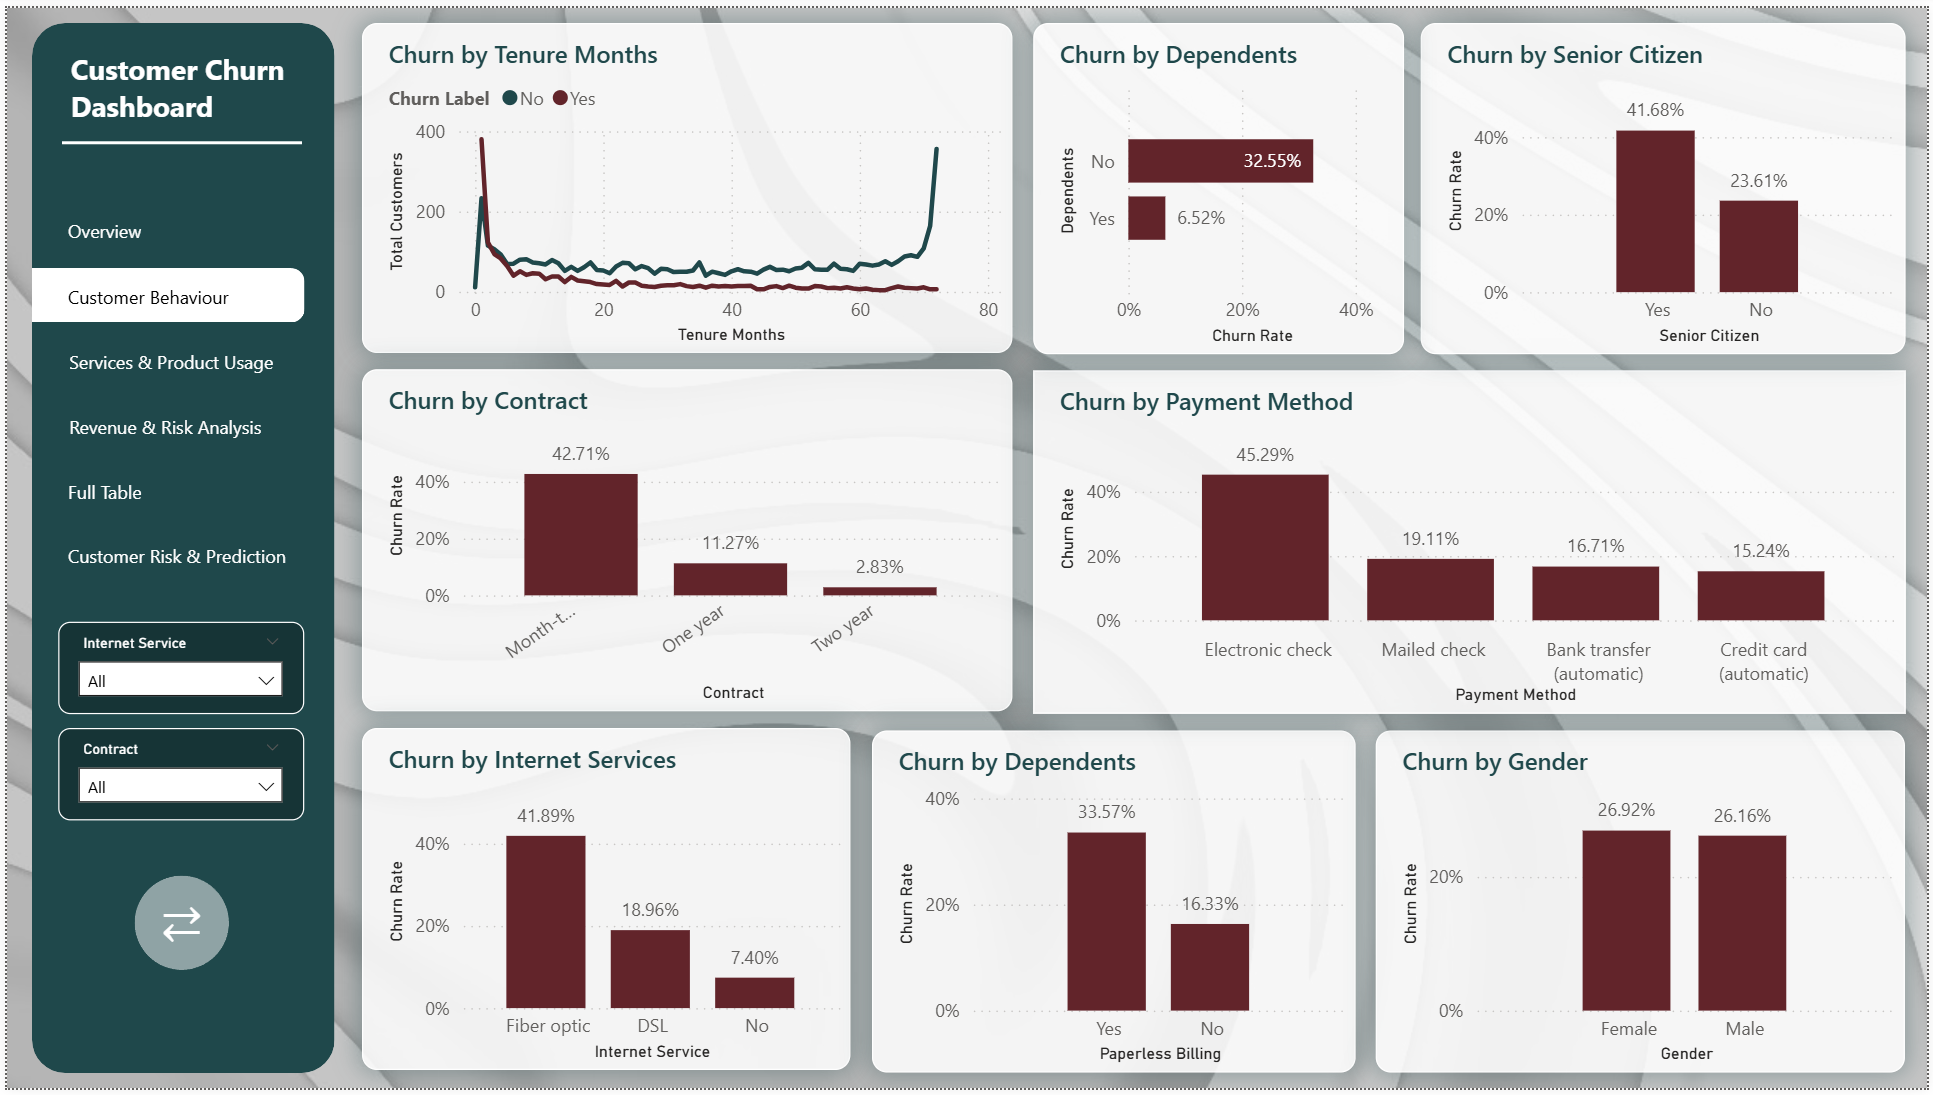

Layout of this report page (visuals, bound fields, positions):
{"tool":"powerbi","page":{"name":"Customer Behaviour","canvas":[1280,720],"ordinal":1},"visuals":[{"type":"shape","box":[16.8,9.7,201.8,700],"z":0},{"type":"textbox","box":[37.2,23,161.1,68.1],"z":1000},{"type":"columnChart","title":"Churn by Internet Services","fields":{"Category":["Dataset.Internet Service"],"Series":["Dataset.Churn Label"],"Y":["Dataset.Total Customers"]},"box":[236.5,481,325.4,227.8],"z":2000},{"type":"columnChart","title":"Churn by Contract","fields":{"Category":["Dataset.Contract"],"Series":["Dataset.Churn Label"],"Y":["Dataset.Total Customers"]},"box":[236.3,241.6,433.6,227.4],"z":3000},{"type":"lineChart","title":"Churn by Tenure Months","fields":{"Category":["Dataset.Tenure Months"],"Series":["Dataset.Churn Label"],"Y":["Dataset.Total Customers"]},"box":[236.3,9.7,433.6,220.4],"z":4000},{"type":"columnChart","title":"Churn by Payment Method","fields":{"Category":["Dataset.Payment Method"],"Series":["Dataset.Churn Label"],"Y":["Dataset.Total Customers"]},"box":[683.2,240.7,582.3,228.3],"z":5000},{"type":"columnChart","title":"Churn by Gender","fields":{"Category":["Dataset.Gender"],"Series":["Dataset.Churn Label"],"Y":["Dataset.Total Customers"]},"box":[912.7,481.7,353.2,227.8],"z":6000},{"type":"barChart","title":"Churn by Dependents","fields":{"Category":["Dataset.Dependents"],"Series":["Dataset.Churn Label"],"Y":["Dataset.Total Customers"]},"box":[683.2,9.7,247.8,220.4],"z":7000},{"type":"columnChart","title":"Churn by Dependents","fields":{"Category":["Dataset.Paperless Billing"],"Series":["Dataset.Churn Label"],"Y":["Dataset.Total Customers"]},"box":[576.2,481,323,227.8],"z":8000},{"type":"columnChart","title":"Churn by Senior Citizen","fields":{"Category":["Dataset.Senior Citizen"],"Series":["Dataset.Churn Label"],"Y":["Dataset.Total Customers"]},"box":[942.5,9.7,323,220.4],"z":9000}]}

Visuals, with their boxes on the page's 1280x720 design canvas (x1, y1, x2, y2). These are canvas units, not pixel positions in the 1933x1095 screenshot, which may show the page scaled, cropped or inside an application window:
shape: box(17, 10, 219, 710)
textbox: box(37, 23, 198, 91)
"Churn by Internet Services" columnChart: box(236, 481, 562, 709)
"Churn by Contract" columnChart: box(236, 242, 670, 469)
"Churn by Tenure Months" lineChart: box(236, 10, 670, 230)
"Churn by Payment Method" columnChart: box(683, 241, 1266, 469)
"Churn by Gender" columnChart: box(913, 482, 1266, 710)
"Churn by Dependents" barChart: box(683, 10, 931, 230)
"Churn by Dependents" columnChart: box(576, 481, 899, 709)
"Churn by Senior Citizen" columnChart: box(942, 10, 1266, 230)
